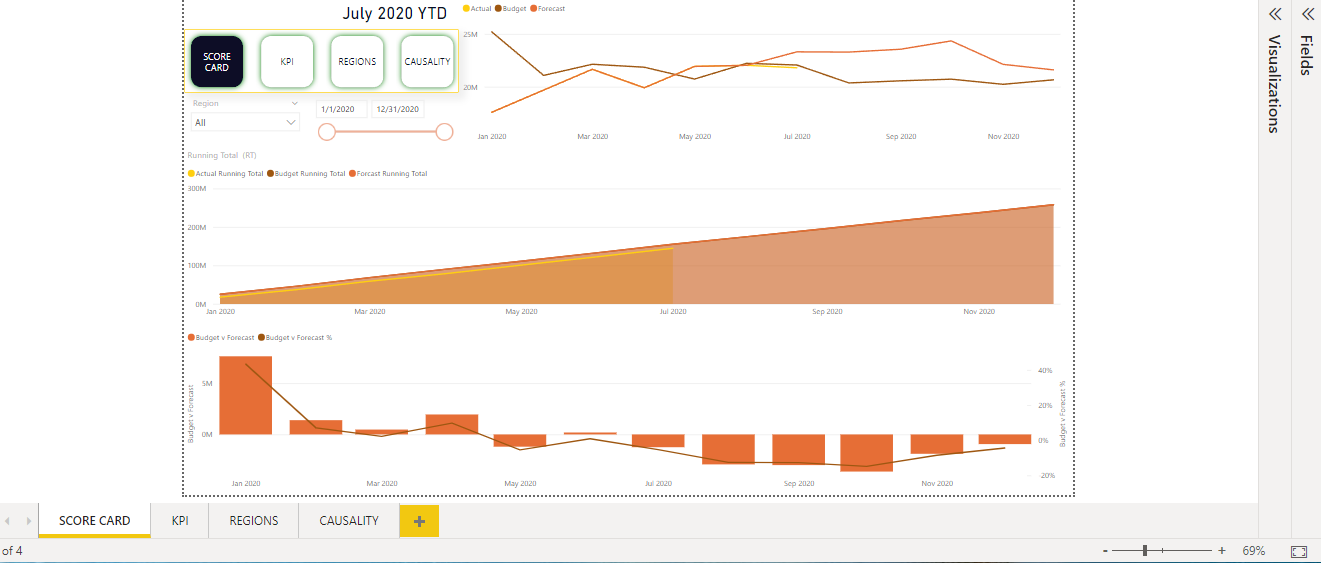

The page's visual inventory and layout, read from the dashboard file:
{"tool":"powerbi","page":{"name":"SCORE CARD","canvas":[1280,720],"ordinal":0},"visuals":[{"type":"lineChart","fields":{"Category":["Calendar.Date.Variation.Date Hierarchy.Year","Calendar.Date.Variation.Date Hierarchy.Quarter","Calendar.Date.Variation.Date Hierarchy.Month"],"Y":["Sum(Actuals.Actual)","Sum(Budget.Budget)","Sum(Forecast.Forecast)"]},"box":[396.4,0,883.6,221.7],"z":0},{"type":"areaChart","title":"Running Total  (RT)","fields":{"Y":["Measure.Actual Running Total","Measure.Budget Running Total","Measure.Forcast Running Total"],"Category":["Calendar.Date.Variation.Date Hierarchy.Year","Calendar.Date.Variation.Date Hierarchy.Quarter","Calendar.Date.Variation.Date Hierarchy.Month","Calendar.Date.Variation.Date Hierarchy.Day"]},"box":[0,221.7,1280,252],"z":1000},{"type":"lineClusteredColumnComboChart","fields":{"Category":["Calendar.Date"],"Y":["Measure.Budget v Forecast"],"Y2":["Measure.Budget v Forecast %"]},"box":[0,473.7,1280,246.9],"z":2000},{"type":"slicer","fields":{"Values":["Regions.Region"]},"box":[0,141.1,177.1,67.7],"z":3000},{"type":"card","fields":{"Values":["Measure.YTD Month"]},"box":[211.7,0,184.3,49],"z":4000},{"type":"pageNavigator","box":[0,49,396,92.2],"z":4500},{"type":"slicer","fields":{"Values":["Calendar.Date"]},"box":[177.1,141.1,218.9,80.6],"z":5000}]}

Visuals, with their boxes on the page's 1280x720 design canvas (x1, y1, x2, y2). These are canvas units, not pixel positions in the 1321x563 screenshot, which may show the page scaled, cropped or inside an application window:
lineChart - Calendar.Date.Variation.Date Hierarchy.Year x Calendar.Date.Variation.Date Hierarchy.Quarter: (396, 0, 1280, 222)
"Running Total  (RT)" areaChart: (0, 222, 1280, 474)
lineClusteredColumnComboChart - Calendar.Date x Measure.Budget v Forecast: (0, 474, 1280, 721)
slicer - Regions.Region: (0, 141, 177, 209)
card - Measure.YTD Month: (212, 0, 396, 49)
pageNavigator: (0, 49, 396, 141)
slicer - Calendar.Date: (177, 141, 396, 222)
